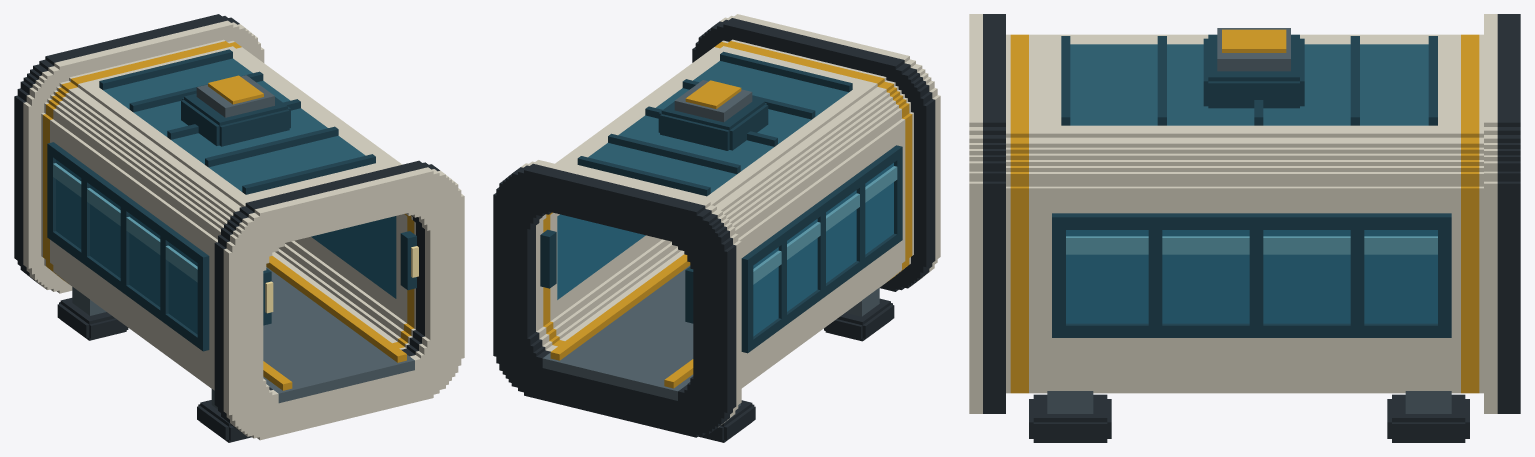
File: connecting_tunnel.glb
The picture shows the model from 3 angles, left to right: view 1: azimuth 30°, elevation 25°; view 2: azimuth 150°, elevation 25°; view 3: azimuth 270°, elevation 25°; orthographic projection. The views are drawn at different scales.
Visible parts, largest first — view 1: connecting_tunnel; view 2: connecting_tunnel; view 3: connecting_tunnel.
Part boxes in pixels (bbox=[...]): connecting_tunnel: bbox=[14, 14, 464, 442]; connecting_tunnel: bbox=[493, 14, 940, 442]; connecting_tunnel: bbox=[969, 14, 1520, 442].
Bounding box in the file's own units: 3.8 × 4.15 × 6.
